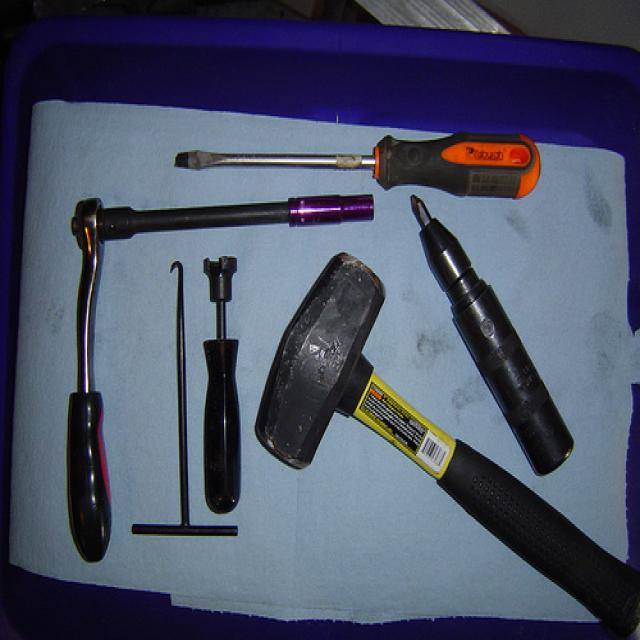hammer: (253, 231, 499, 565)
screw driver: (176, 112, 554, 214)
